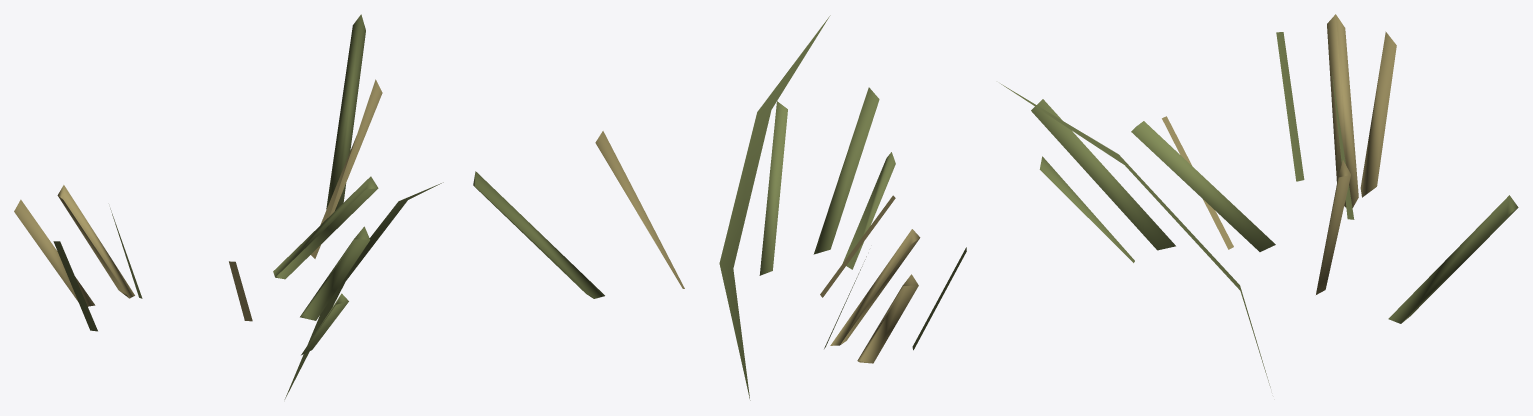
File: Herbes_Etale_LOD2.fbx
The picture shows the model from 3 angles, left to right: view 1: azimuth 30°, elevation 25°; view 2: azimuth 150°, elevation 25°; view 3: azimuth 270°, elevation 25°; orthographic projection. The views are drawn at different scales.
Visible parts, largest first — view 1: Herbes_Etale_LOD2; view 2: Herbes_Etale_LOD2; view 3: Herbes_Etale_LOD2.
Part boxes in pixels (bbox=[...]): Herbes_Etale_LOD2: bbox=[14, 14, 443, 399]; Herbes_Etale_LOD2: bbox=[473, 15, 966, 400]; Herbes_Etale_LOD2: bbox=[1000, 14, 1518, 387].
Bounding box in the file's own units: 66.11 × 46.22 × 63.85.
